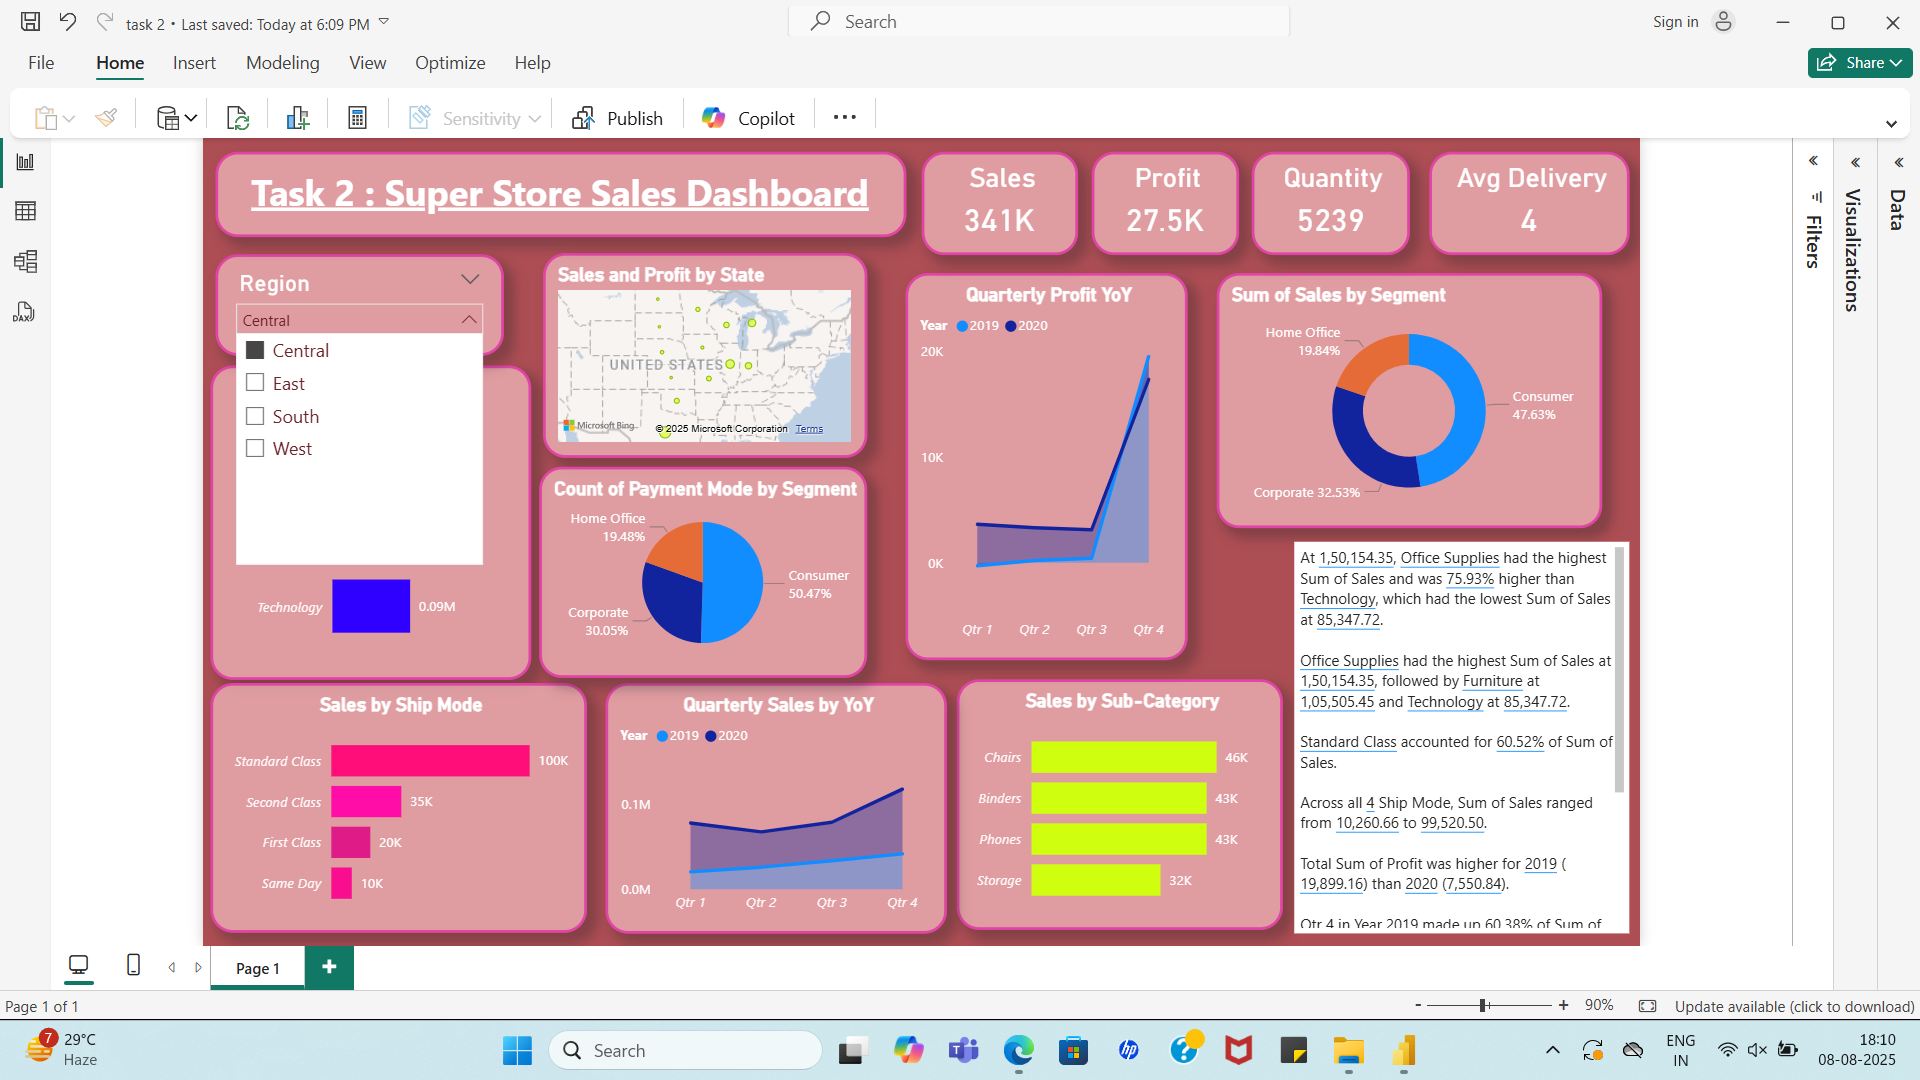

Layout of this report page (visuals, bound fields, positions):
{"tool":"powerbi","page":{"name":"Page 1","canvas":[1280,720],"ordinal":0},"visuals":[{"type":"clusteredBarChart","title":"Sales by Category","fields":{"Category":["SuperStore_Sales_Dataset.Category"],"Y":["Sum(SuperStore_Sales_Dataset.Sales)"]},"box":[6.9,203.1,285.4,279.9],"z":0},{"type":"clusteredBarChart","title":"Sales by Sub-Category","fields":{"Category":["SuperStore_Sales_Dataset.Sub-Category"],"Y":["Sum(SuperStore_Sales_Dataset.Sales)"]},"box":[671.6,482.4,290.5,223],"z":1000},{"type":"clusteredBarChart","title":"Sales by Ship Mode","fields":{"Y":["Sum(SuperStore_Sales_Dataset.Sales)"],"Category":["SuperStore_Sales_Dataset.Ship Mode"]},"box":[6.9,485.8,334.8,222.3],"z":2000},{"type":"stackedAreaChart","title":"Quarterly Sales by YoY","fields":{"Y":["Sum(SuperStore_Sales_Dataset.Sales)"],"Category":["SuperStore_Sales_Dataset.Order Date.Variation.Date Hierarchy.Quarter"],"Series":["SuperStore_Sales_Dataset.Order Date.Variation.Date Hierarchy.Year"]},"box":[358.1,485.1,304.1,223],"z":3000},{"type":"stackedAreaChart","title":"Quarterly Profit YoY","fields":{"Category":["SuperStore_Sales_Dataset.Order Date.Variation.Date Hierarchy.Quarter"],"Series":["SuperStore_Sales_Dataset.Order Date.Variation.Date Hierarchy.Year"],"Y":["Sum(SuperStore_Sales_Dataset.Profit)"]},"box":[625.7,120.3,251.4,344.6],"z":4000},{"type":"map","title":"Sales and Profit by State","fields":{"Category":["SuperStore_Sales_Dataset.State"],"Size":["Sum(SuperStore_Sales_Dataset.Sales)"]},"box":[302.7,102.7,289.2,182.4],"z":5000},{"type":"donutChart","fields":{"Category":["SuperStore_Sales_Dataset.Segment"],"Y":["Sum(SuperStore_Sales_Dataset.Sales)"]},"box":[902.7,120.3,343.2,227],"z":6000},{"type":"pieChart","fields":{"Category":["SuperStore_Sales_Dataset.Segment"],"Y":["CountNonNull(SuperStore_Sales_Dataset.Payment Mode)"]},"box":[300,293.2,291.9,187.8],"z":7000},{"type":"slicer","fields":{"Values":["SuperStore_Sales_Dataset.Region"]},"box":[10.8,104.1,256.8,90.5],"z":8000},{"type":"textbox","box":[10.8,12.2,614.9,75.7],"z":9000},{"type":"card","title":"Sales","fields":{"Values":["Sum(SuperStore_Sales_Dataset.Sales)"]},"box":[640.5,12.2,139.2,91.9],"z":10000},{"type":"card","title":"Profit","fields":{"Values":["Sum(SuperStore_Sales_Dataset.Profit)"]},"box":[791.9,12.2,131.1,91.9],"z":11000},{"type":"card","title":"Quantity","fields":{"Values":["Sum(SuperStore_Sales_Dataset.Quantity)"]},"box":[933.8,12.2,140.5,91.9],"z":12000},{"type":"card","title":"Avg Delivery","fields":{"Values":["Avg(SuperStore_Sales_Dataset.AvgDeliviry)"]},"box":[1091.9,12.2,178.4,91.9],"z":13000},{"type":"textbox","box":[971.6,359.5,298.6,348.6],"z":14000}]}

Visuals, with their boxes on the page's 1280x720 design canvas (x1, y1, x2, y2). These are canvas units, not pixel positions in the 1920x1080 screenshot, which may show the page scaled, cropped or inside an application window:
"Sales by Category" clusteredBarChart: [left=7, top=203, right=292, bottom=483]
"Sales by Sub-Category" clusteredBarChart: [left=672, top=482, right=962, bottom=705]
"Sales by Ship Mode" clusteredBarChart: [left=7, top=486, right=342, bottom=708]
"Quarterly Sales by YoY" stackedAreaChart: [left=358, top=485, right=662, bottom=708]
"Quarterly Profit YoY" stackedAreaChart: [left=626, top=120, right=877, bottom=465]
"Sales and Profit by State" map: [left=303, top=103, right=592, bottom=285]
donutChart - SuperStore_Sales_Dataset.Segment x Sum(SuperStore_Sales_Dataset.Sales): [left=903, top=120, right=1246, bottom=347]
pieChart - SuperStore_Sales_Dataset.Segment x CountNonNull(SuperStore_Sales_Dataset.Payment Mode): [left=300, top=293, right=592, bottom=481]
slicer - SuperStore_Sales_Dataset.Region: [left=11, top=104, right=268, bottom=195]
textbox: [left=11, top=12, right=626, bottom=88]
"Sales" card: [left=640, top=12, right=780, bottom=104]
"Profit" card: [left=792, top=12, right=923, bottom=104]
"Quantity" card: [left=934, top=12, right=1074, bottom=104]
"Avg Delivery" card: [left=1092, top=12, right=1270, bottom=104]
textbox: [left=972, top=360, right=1270, bottom=708]
